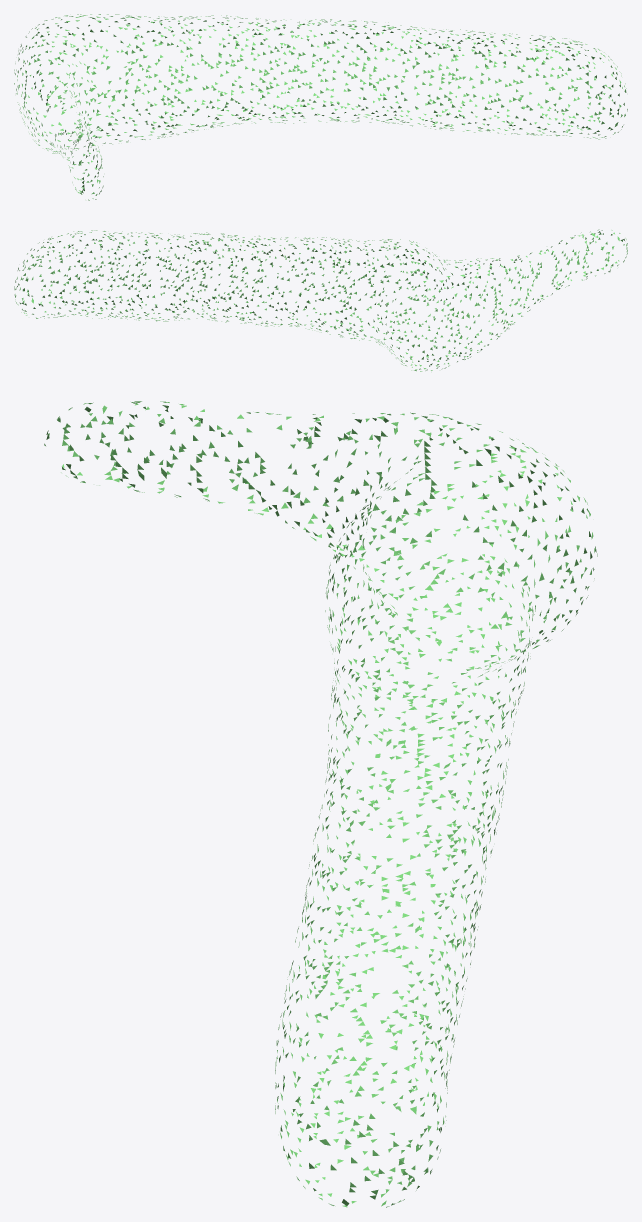
File: morph_017.glb
3 renders of one model, top to bottom at view 1: azimuth 30°, elevation 25°; view 2: azimuth 150°, elevation 25°; view 3: azimuth 270°, elevation 25°, orthographic. The views are drawn at different scales.
Bounding box in the file's own units: 124 × 39.55 × 55.99.
